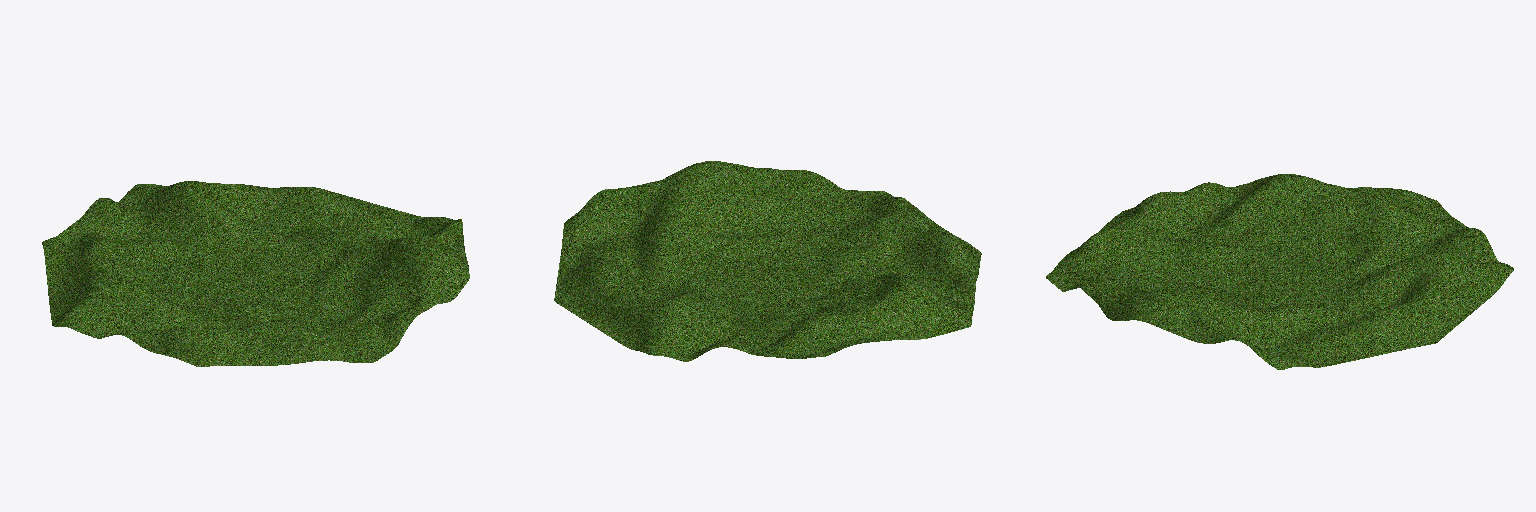
3 views of the same model, side by side, from view 1: azimuth 30°, elevation 25°; view 2: azimuth 150°, elevation 25°; view 3: azimuth 270°, elevation 25° (orthographic).
Visible parts, largest first — view 1: StandardGround; view 2: StandardGround; view 3: StandardGround.
Boxes of the visible parts, <box> form: StandardGround: <box>42,181,469,366</box>; StandardGround: <box>554,161,981,361</box>; StandardGround: <box>1046,174,1513,369</box>.
Size of the model in its own units: 120 by 12.18 by 120.
1 materials, 1 textured.